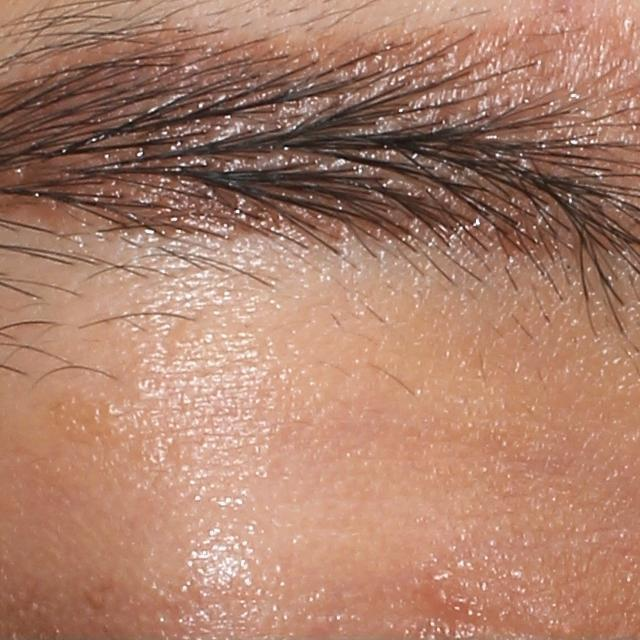melasma: (49, 393, 138, 446)
